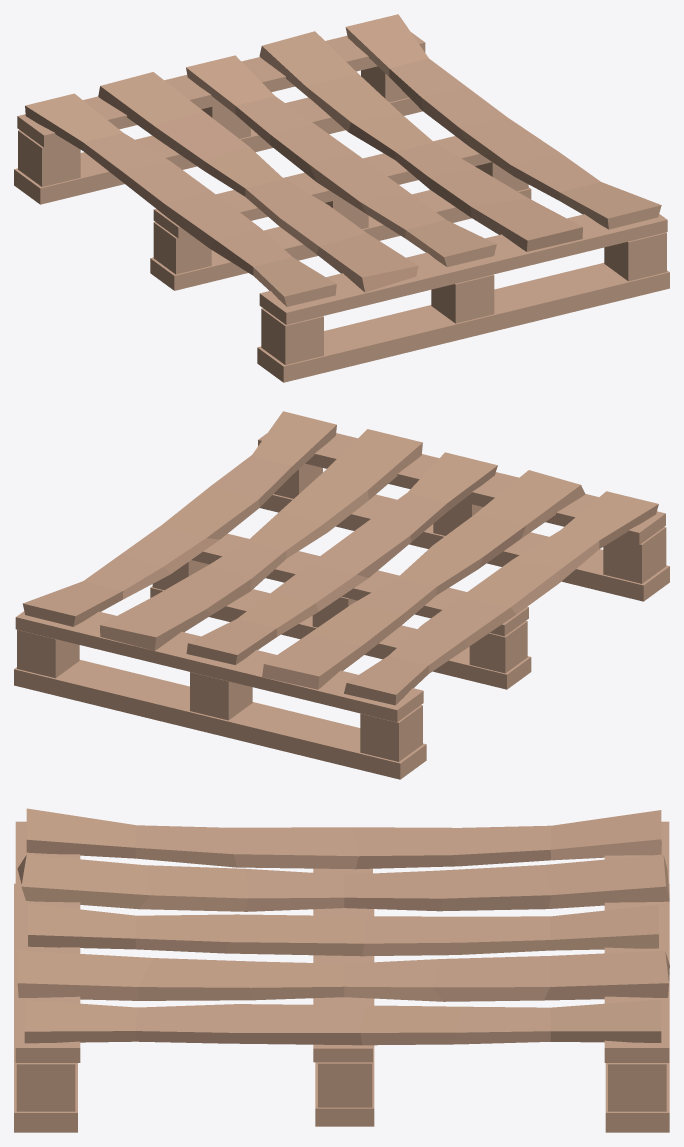
File: paletPASABLE.fbx
The picture shows the model from 3 angles, top to bottom: view 1: azimuth 30°, elevation 25°; view 2: azimuth 150°, elevation 25°; view 3: azimuth 270°, elevation 25°; orthographic projection. The views are drawn at different scales.
Visible parts, largest first — view 1: PaletPASABLE; view 2: PaletPASABLE; view 3: PaletPASABLE.
Boxes of the visible parts, x1=… form: PaletPASABLE: x1=14, y1=14, x2=669, y2=382; PaletPASABLE: x1=14, y1=411, x2=669, y2=779; PaletPASABLE: x1=14, y1=808, x2=669, y2=1132.
Size of the model in its own units: 99.55 by 20.57 by 120.
